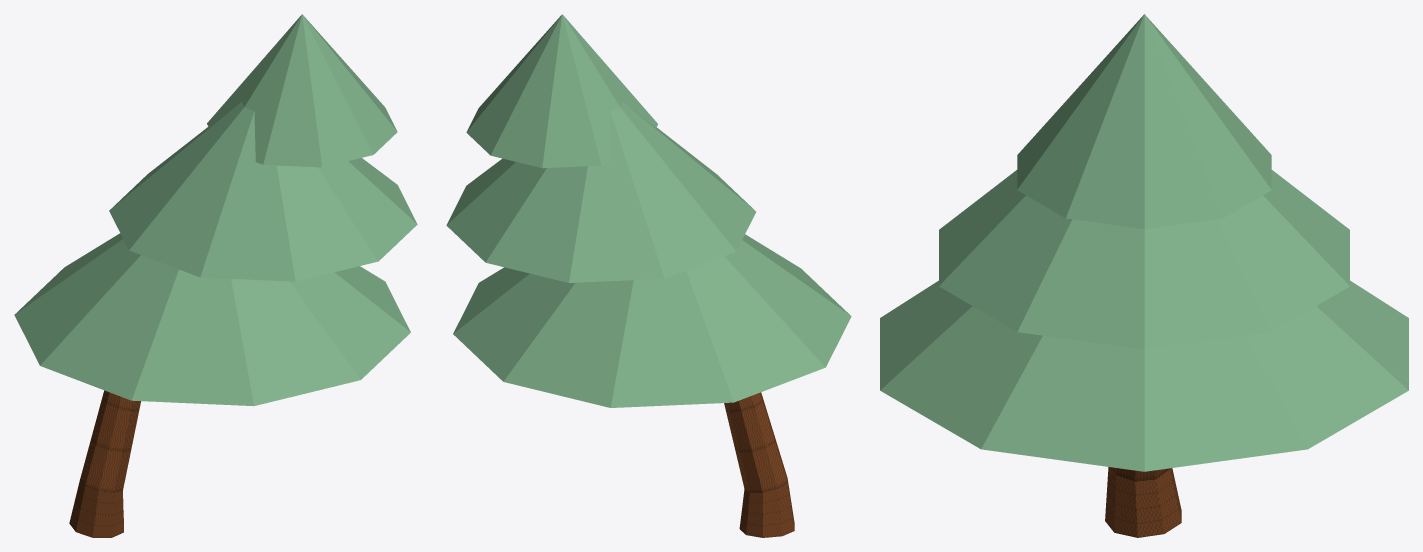
The model's file is pine_windswept.glb.
The picture shows the model from 3 angles, left to right: view 1: azimuth 30°, elevation 25°; view 2: azimuth 150°, elevation 25°; view 3: azimuth 270°, elevation 25°; orthographic projection. The views are drawn at different scales.
Visible parts, largest first — view 1: pine-windswept; view 2: pine-windswept; view 3: pine-windswept.
Boxes of the visible parts, x1,y1,x2,y2 form: pine-windswept: [14, 14, 417, 537]; pine-windswept: [446, 14, 851, 537]; pine-windswept: [880, 14, 1408, 537].
Size of the model in its own units: 2.8 by 3.47 by 2.57.
Materials: 2 (1 with a texture image).
